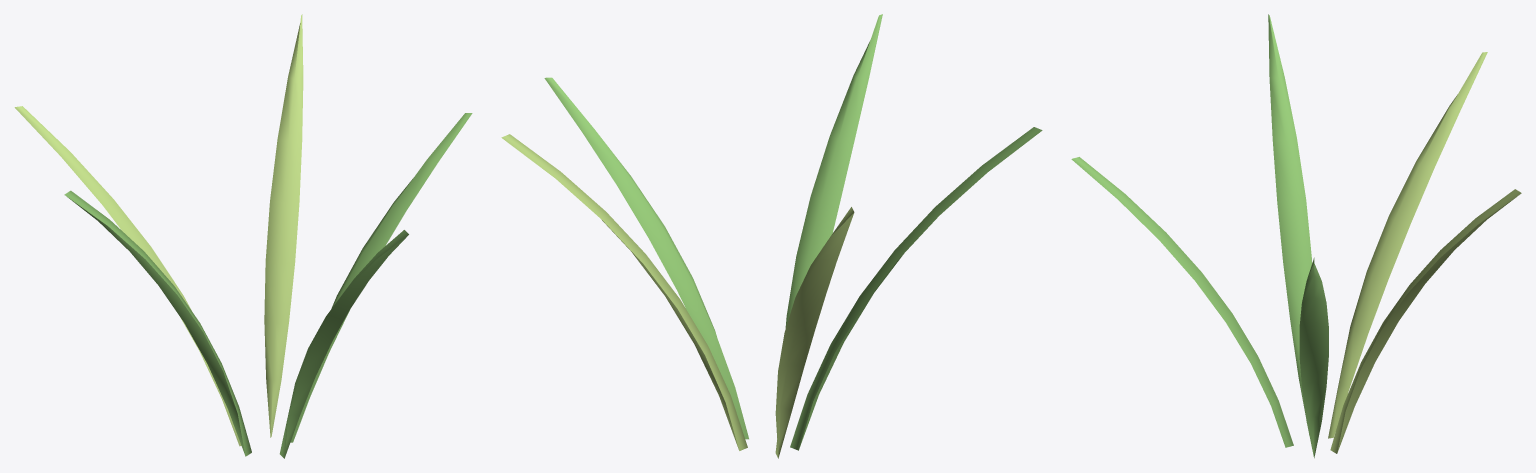
Rendered from grashalme.glb.
The picture shows the model from 3 angles, left to right: view 1: azimuth 30°, elevation 25°; view 2: azimuth 150°, elevation 25°; view 3: azimuth 270°, elevation 25°; orthographic projection. The views are drawn at different scales.
Parts seen in each view (by area): view 1: grashalme_lod0; view 2: grashalme_lod0; view 3: grashalme_lod0.
Part boxes in pixels (x1,y1,x2,y2): grashalme_lod0: [14, 14, 472, 458]; grashalme_lod0: [501, 14, 1042, 458]; grashalme_lod0: [1071, 14, 1521, 458].
Size of what is drawn, in the model's own units: 1.15 by 0.835 by 1.05.
